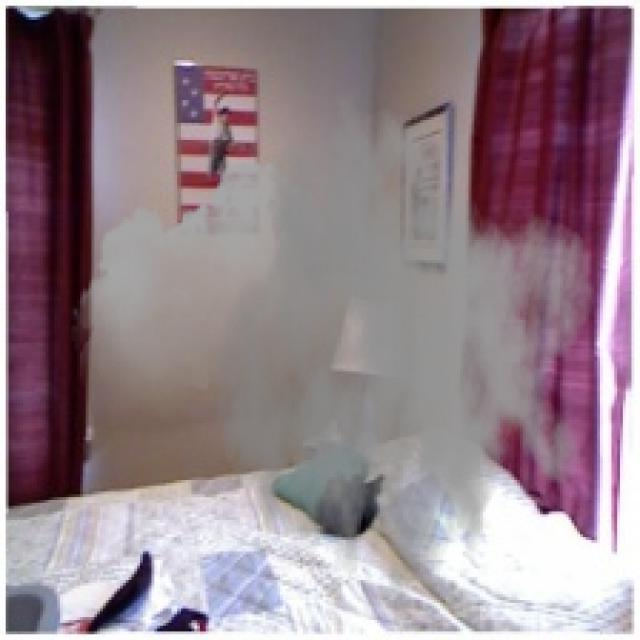smoke: (72, 91, 597, 634)
